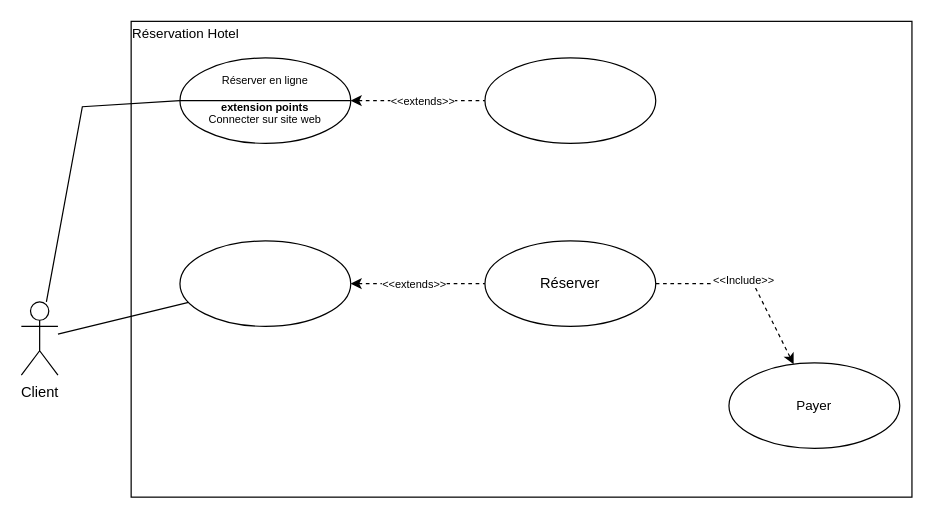
Image size: 933x519. Some labels were removed from this diagram. The shapes that lost their labels are listed below. From the top down, each one's box as (x1, y1, x2, y2) in pixels, then its label:
(484, 57, 656, 143): Rechercher les chambres disponibles
(179, 240, 351, 326): Liste des chambres
